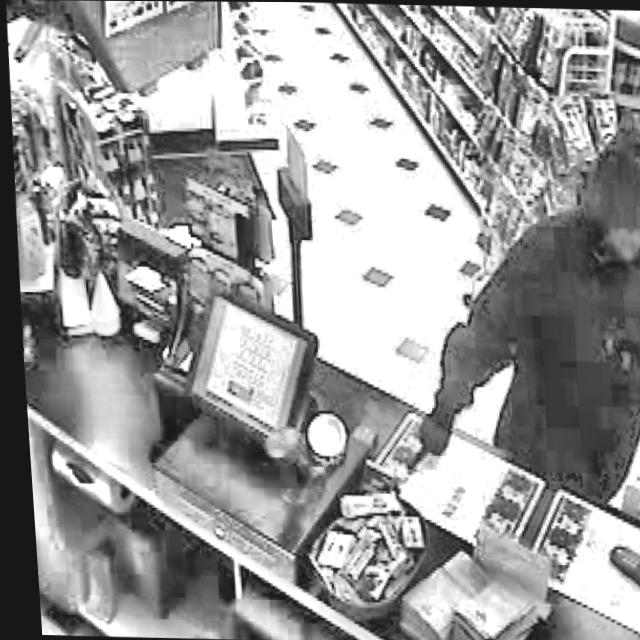robbery: (378, 108, 640, 508)
